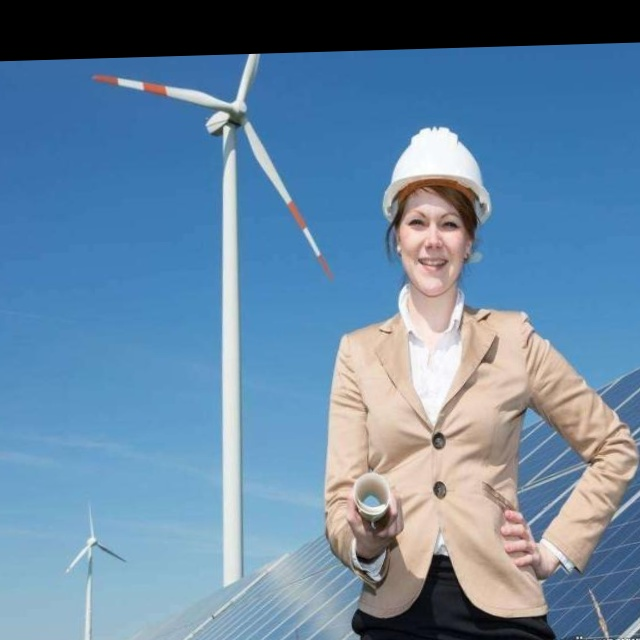Con_Casco: (378, 125, 494, 282)
Sin_Chaleco: (349, 308, 540, 599)
